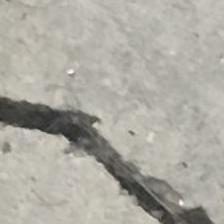Crack: (0, 93, 203, 224)
